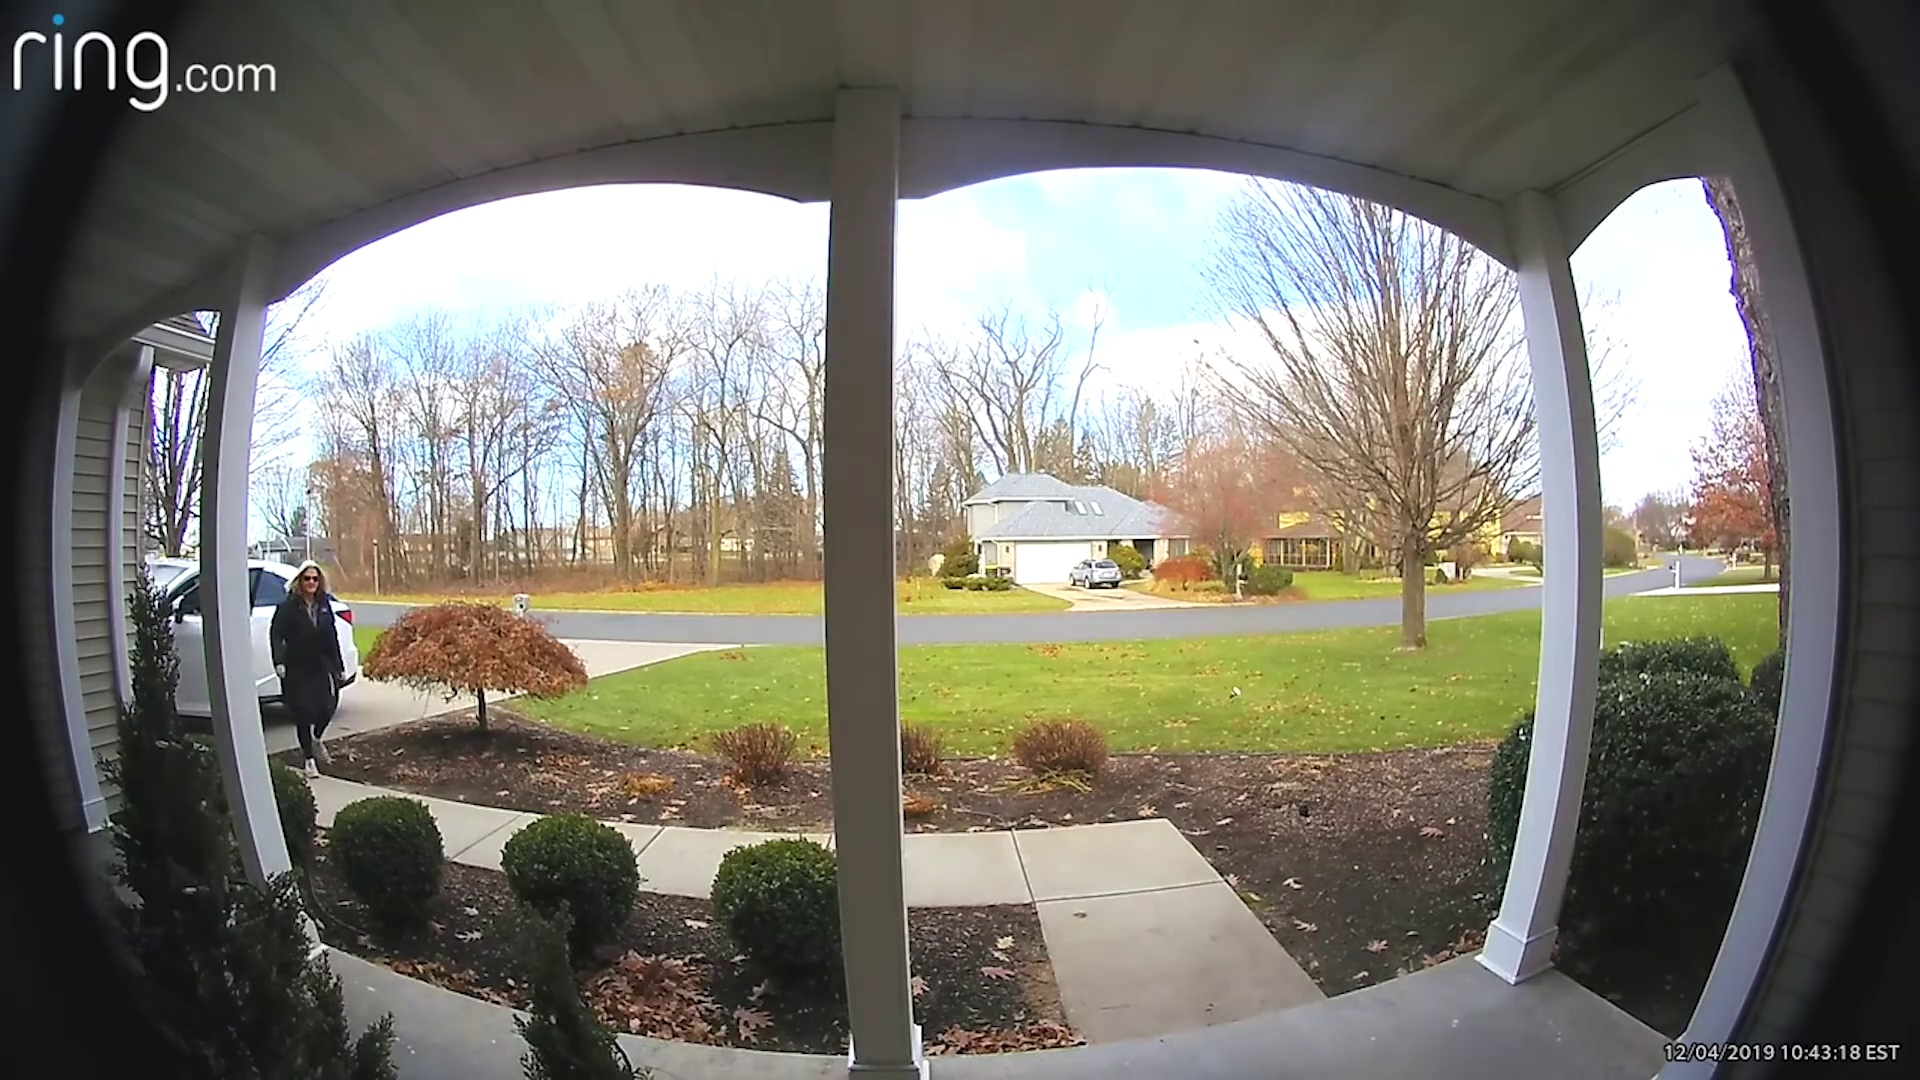face: (301, 572, 317, 591)
